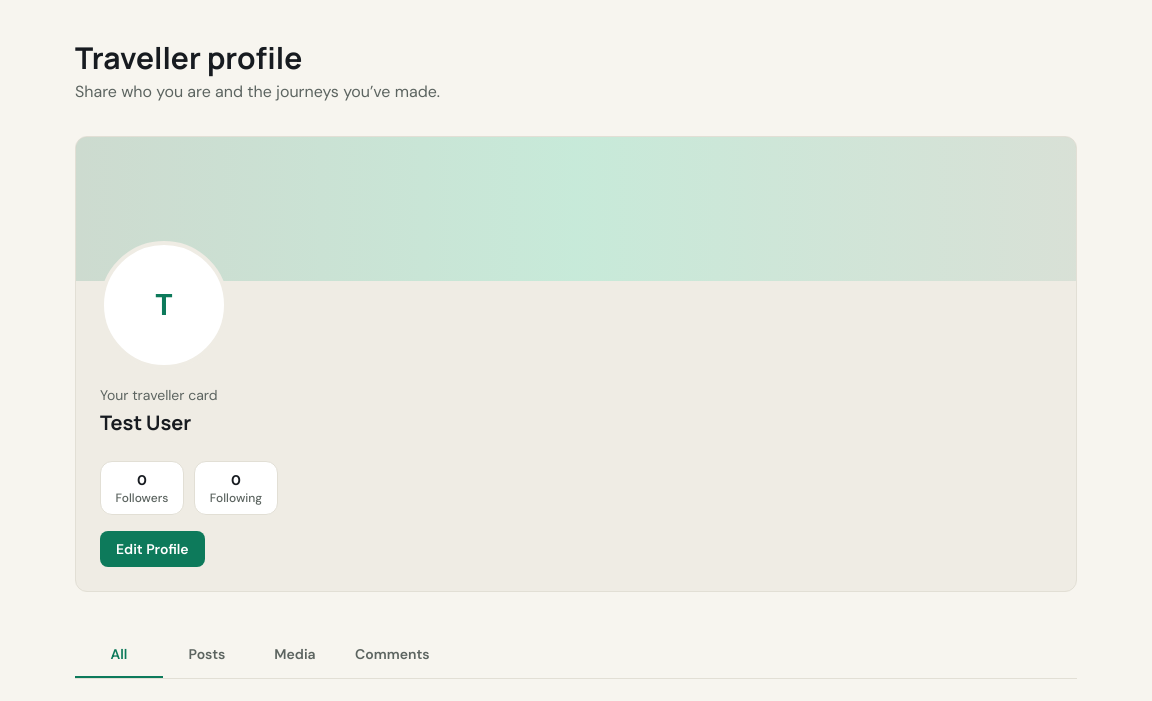
Test case: Profile update › updates profile on successful submission
This screenshot has width=1152, height=701.
Click the button "Edit Profile": (152, 549) top-left (100, 531), bottom-right (205, 567)
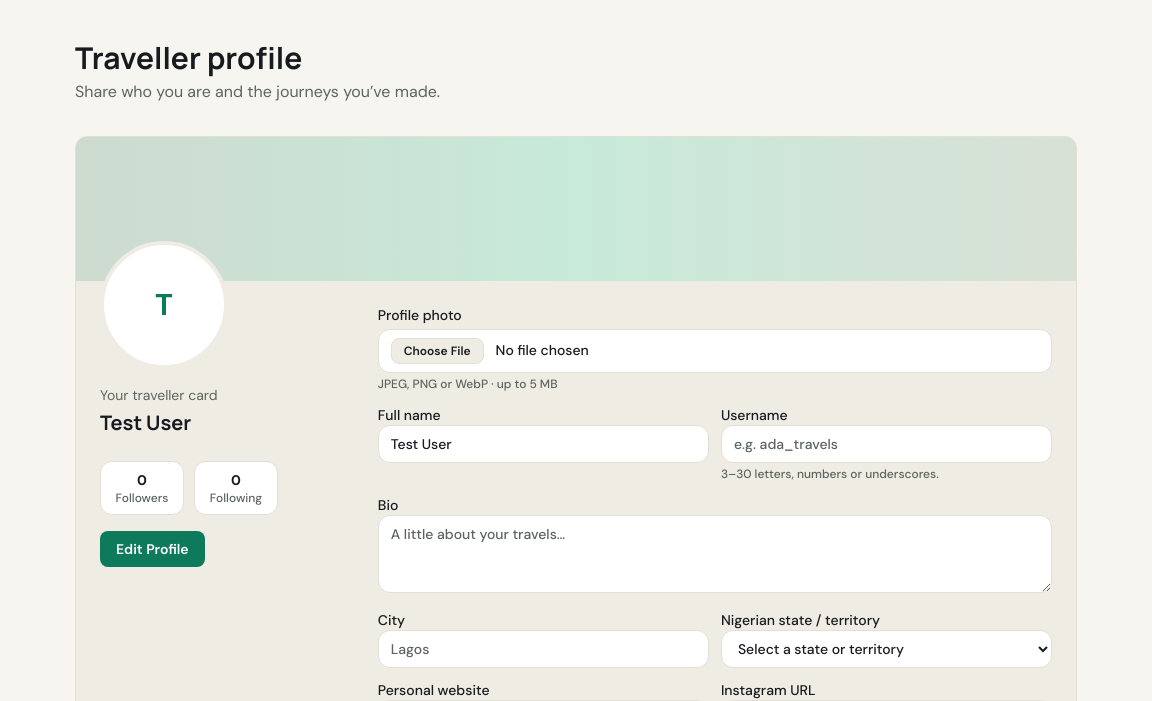
Expected: the field labelled "Full name" holds "Test User"
Replace the text in the field labelled "Full name" with "Updated Name": (543, 444) top-left (378, 425), bottom-right (709, 463)
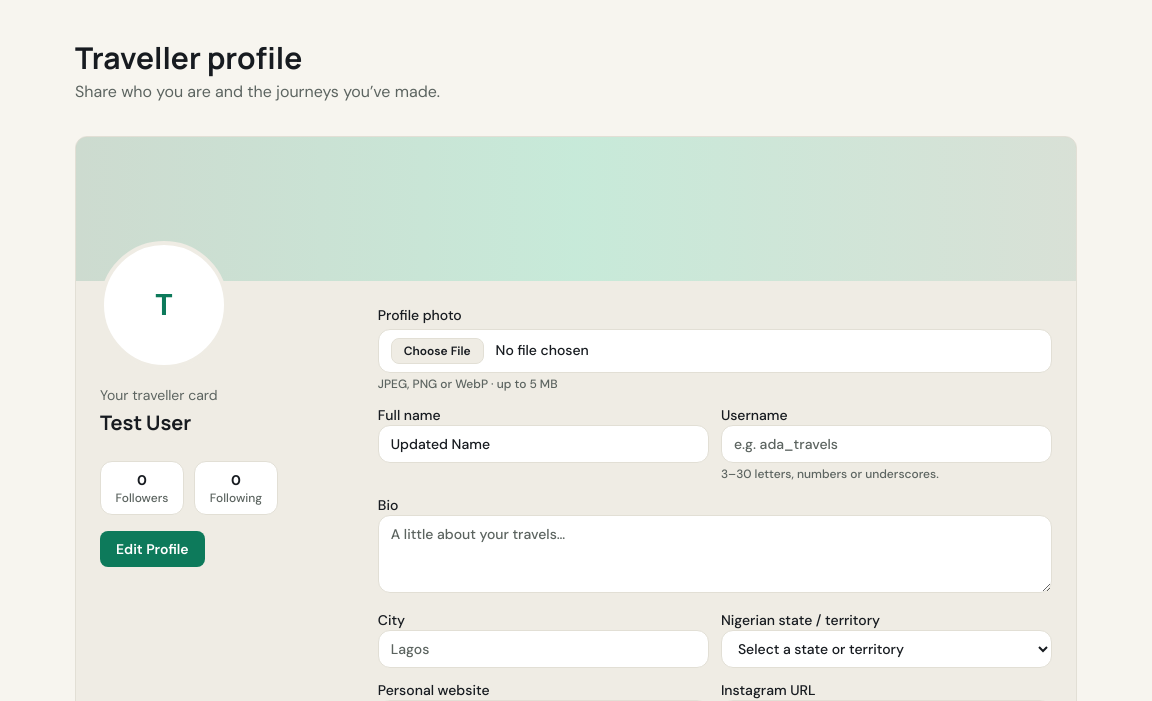
In the text box labelled "Bio": (715, 554) top-left (378, 515), bottom-right (1052, 593), type "Updated bio."
(page scrolled)
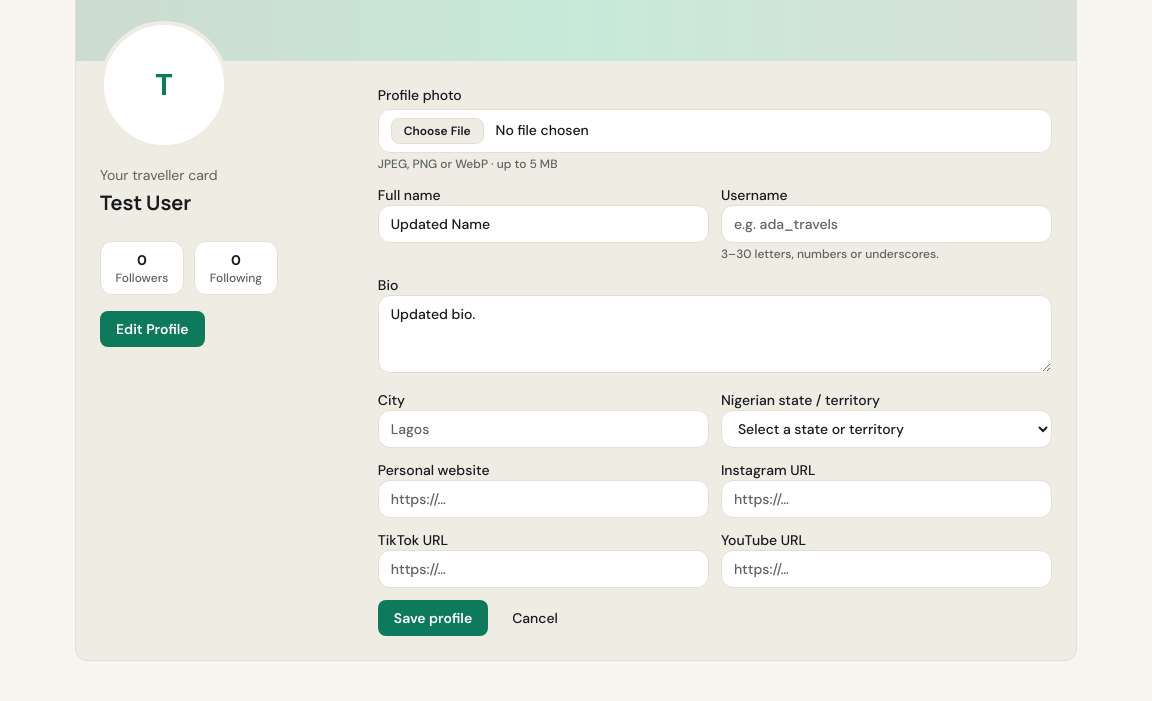
Submit the form named "Save profile", box top-left (378, 85), bottom-right (1052, 636)
(page scrolled)
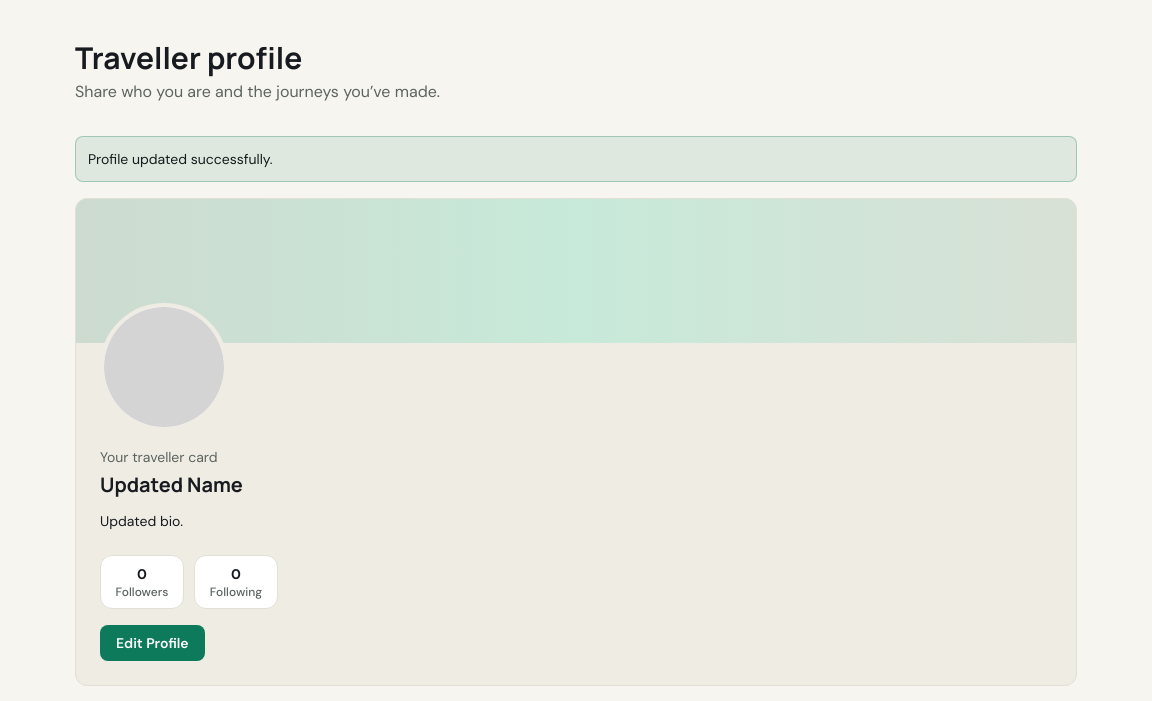
Expected: the text "Profile updated successfully." is shown, top-left (75, 136), bottom-right (1077, 182)
